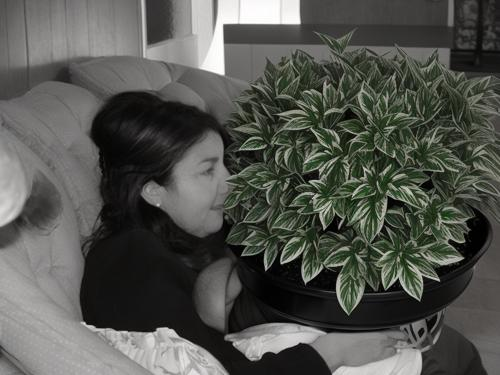person: (78, 91, 490, 375), (192, 256, 492, 375)
person/hand: (333, 307, 408, 369), (310, 284, 341, 311), (311, 256, 337, 277)
person/head: (119, 106, 239, 237), (193, 257, 296, 342)
pottedplant: (223, 24, 500, 333)
sofa: (1, 54, 499, 375)
